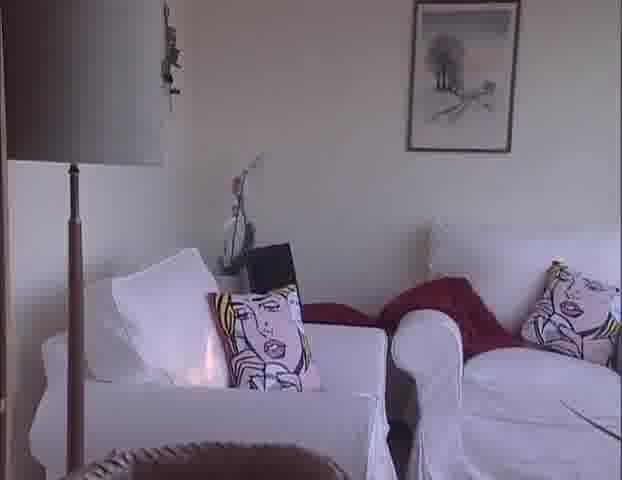fire: (194, 332, 224, 383)
